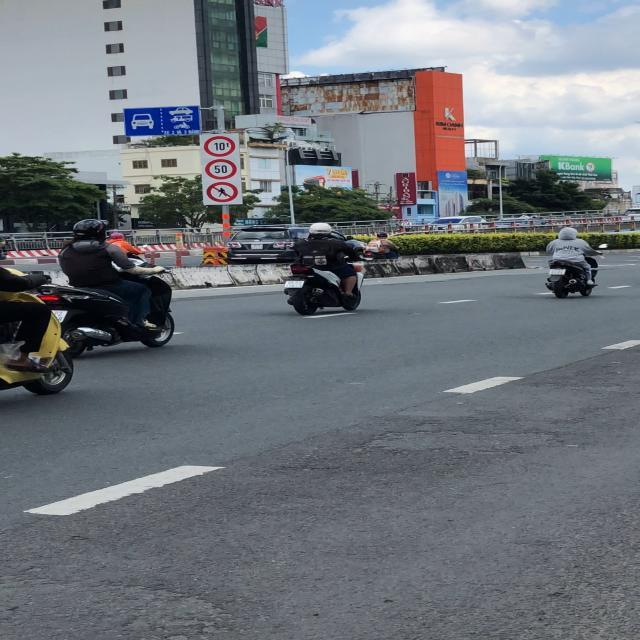Bien bao toc do toi da cho phep: (204, 157, 242, 181)
